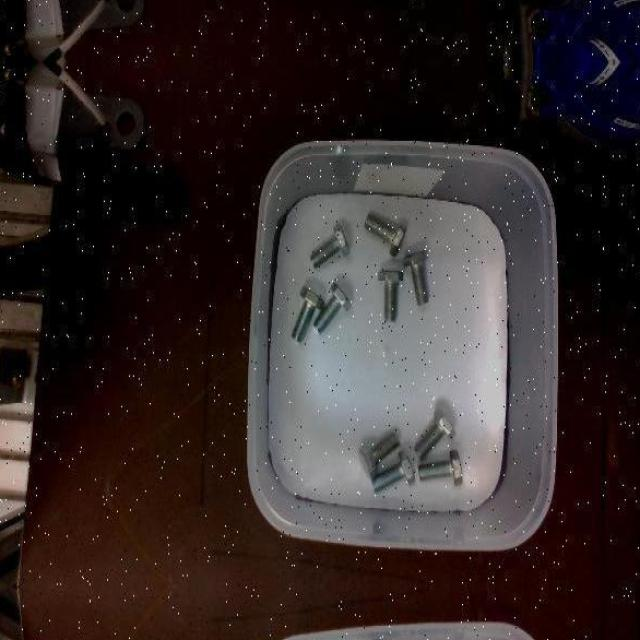screw: (414, 407, 456, 460), (371, 448, 415, 493), (358, 431, 400, 478), (290, 286, 324, 343), (314, 283, 352, 334), (309, 223, 350, 269), (364, 213, 405, 257), (417, 448, 462, 485), (402, 250, 428, 307), (378, 270, 403, 322)
